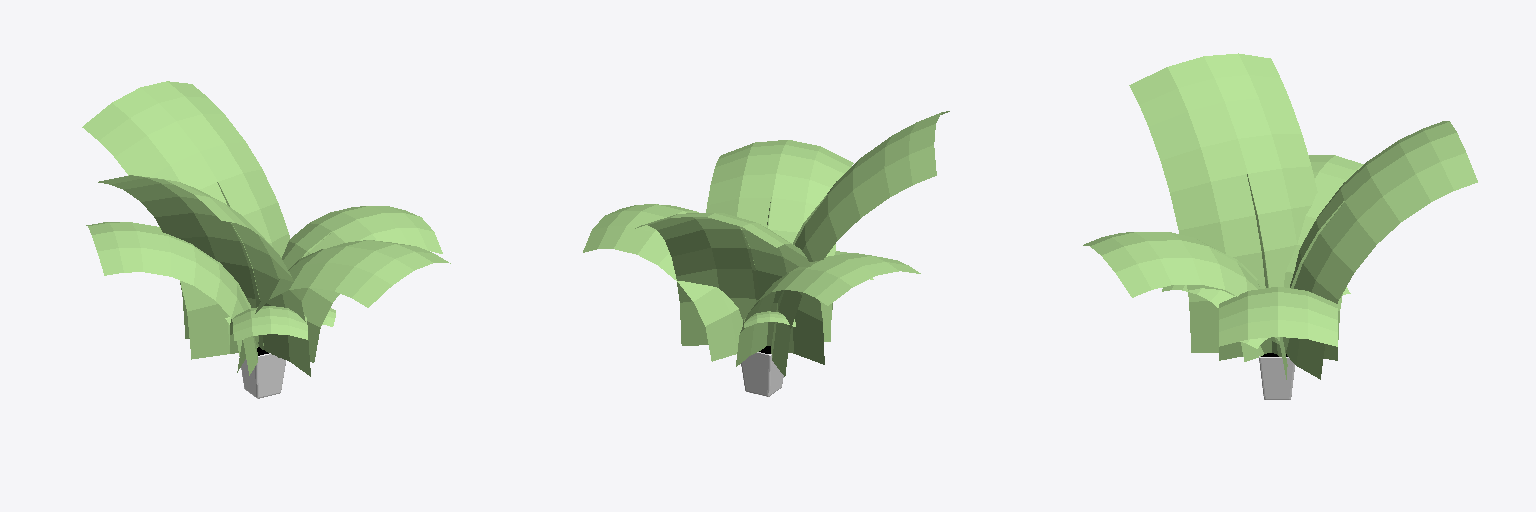
The model's file is Monstera1.obj.
3 views of the same model, side by side, from view 1: azimuth 30°, elevation 25°; view 2: azimuth 150°, elevation 25°; view 3: azimuth 270°, elevation 25° (orthographic).
Visible parts, largest first — view 1: Monstera1, Monstera103, Monstera101, Monstera104, Monstera105, Pot; view 2: Monstera1, Monstera104, Monstera103, Monstera101, Pot; view 3: Monstera103, Monstera1, Monstera104, Monstera101, Pot, Monstera105.
Part boxes in pixels (left/top/right/bottom): Monstera1: left=82, top=81, right=442, bottom=362; Monstera103: left=98, top=175, right=310, bottom=376; Monstera101: left=86, top=222, right=257, bottom=375; Monstera104: left=237, top=240, right=450, bottom=372; Monstera105: left=230, top=306, right=307, bottom=353; Pot: left=239, top=353, right=285, bottom=398; Monstera1: left=583, top=204, right=824, bottom=364; Monstera104: left=706, top=140, right=853, bottom=341; Monstera103: left=771, top=111, right=949, bottom=376; Monstera101: left=736, top=253, right=920, bottom=366; Pot: left=741, top=352, right=783, bottom=396; Monstera103: left=1129, top=53, right=1317, bottom=352; Monstera1: left=1219, top=121, right=1477, bottom=379; Monstera104: left=1083, top=232, right=1287, bottom=379; Monstera101: left=1284, top=155, right=1363, bottom=339; Pot: left=1259, top=356, right=1294, bottom=399; Monstera105: left=1162, top=285, right=1263, bottom=361.
Bounding box in the file's own units: 97.3 × 77.03 × 102.